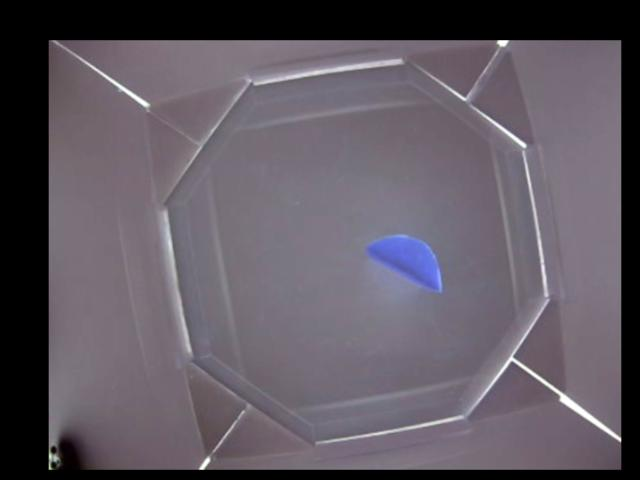Potato: (365, 233, 443, 293)
